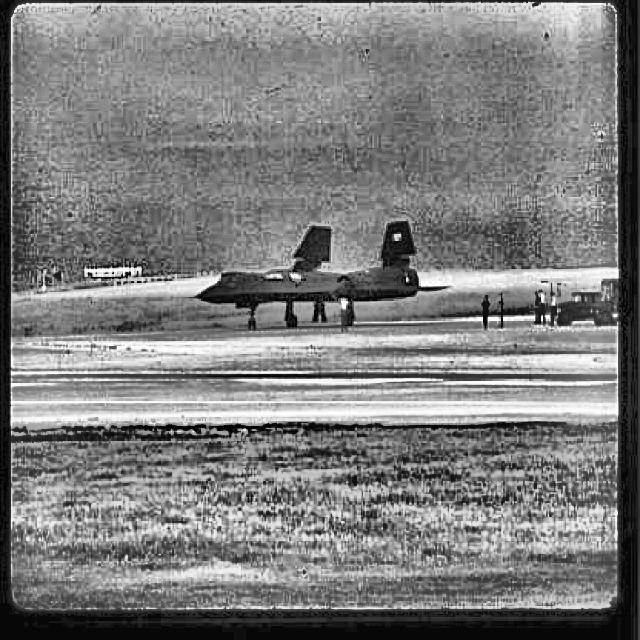SR71: (190, 220, 452, 329)
